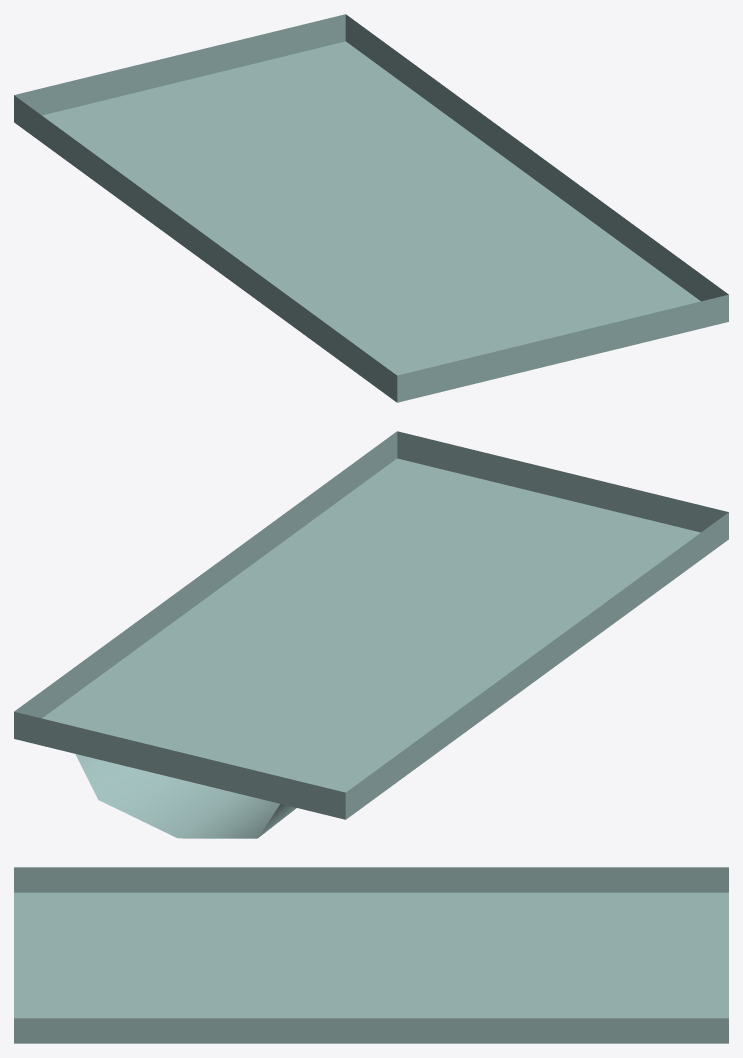
The model's file is BCeilPipeEnd.fbx.
The picture shows the model from 3 angles, top to bottom: view 1: azimuth 30°, elevation 25°; view 2: azimuth 150°, elevation 25°; view 3: azimuth 270°, elevation 25°; orthographic projection. The views are drawn at different scales.
Visible parts, largest first — view 1: BCeilPipeEnd; view 2: BCeilPipeEnd; view 3: BCeilPipeEnd.
Part boxes in pixels (box(x1,y1,x2,y2)): BCeilPipeEnd: box(14, 14, 728, 402); BCeilPipeEnd: box(14, 431, 728, 838); BCeilPipeEnd: box(14, 867, 728, 1043).
Size of the model in its own units: 200 by 50 by 400.
